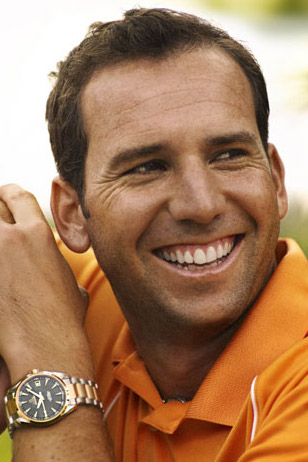clock: (18, 376, 66, 423)
